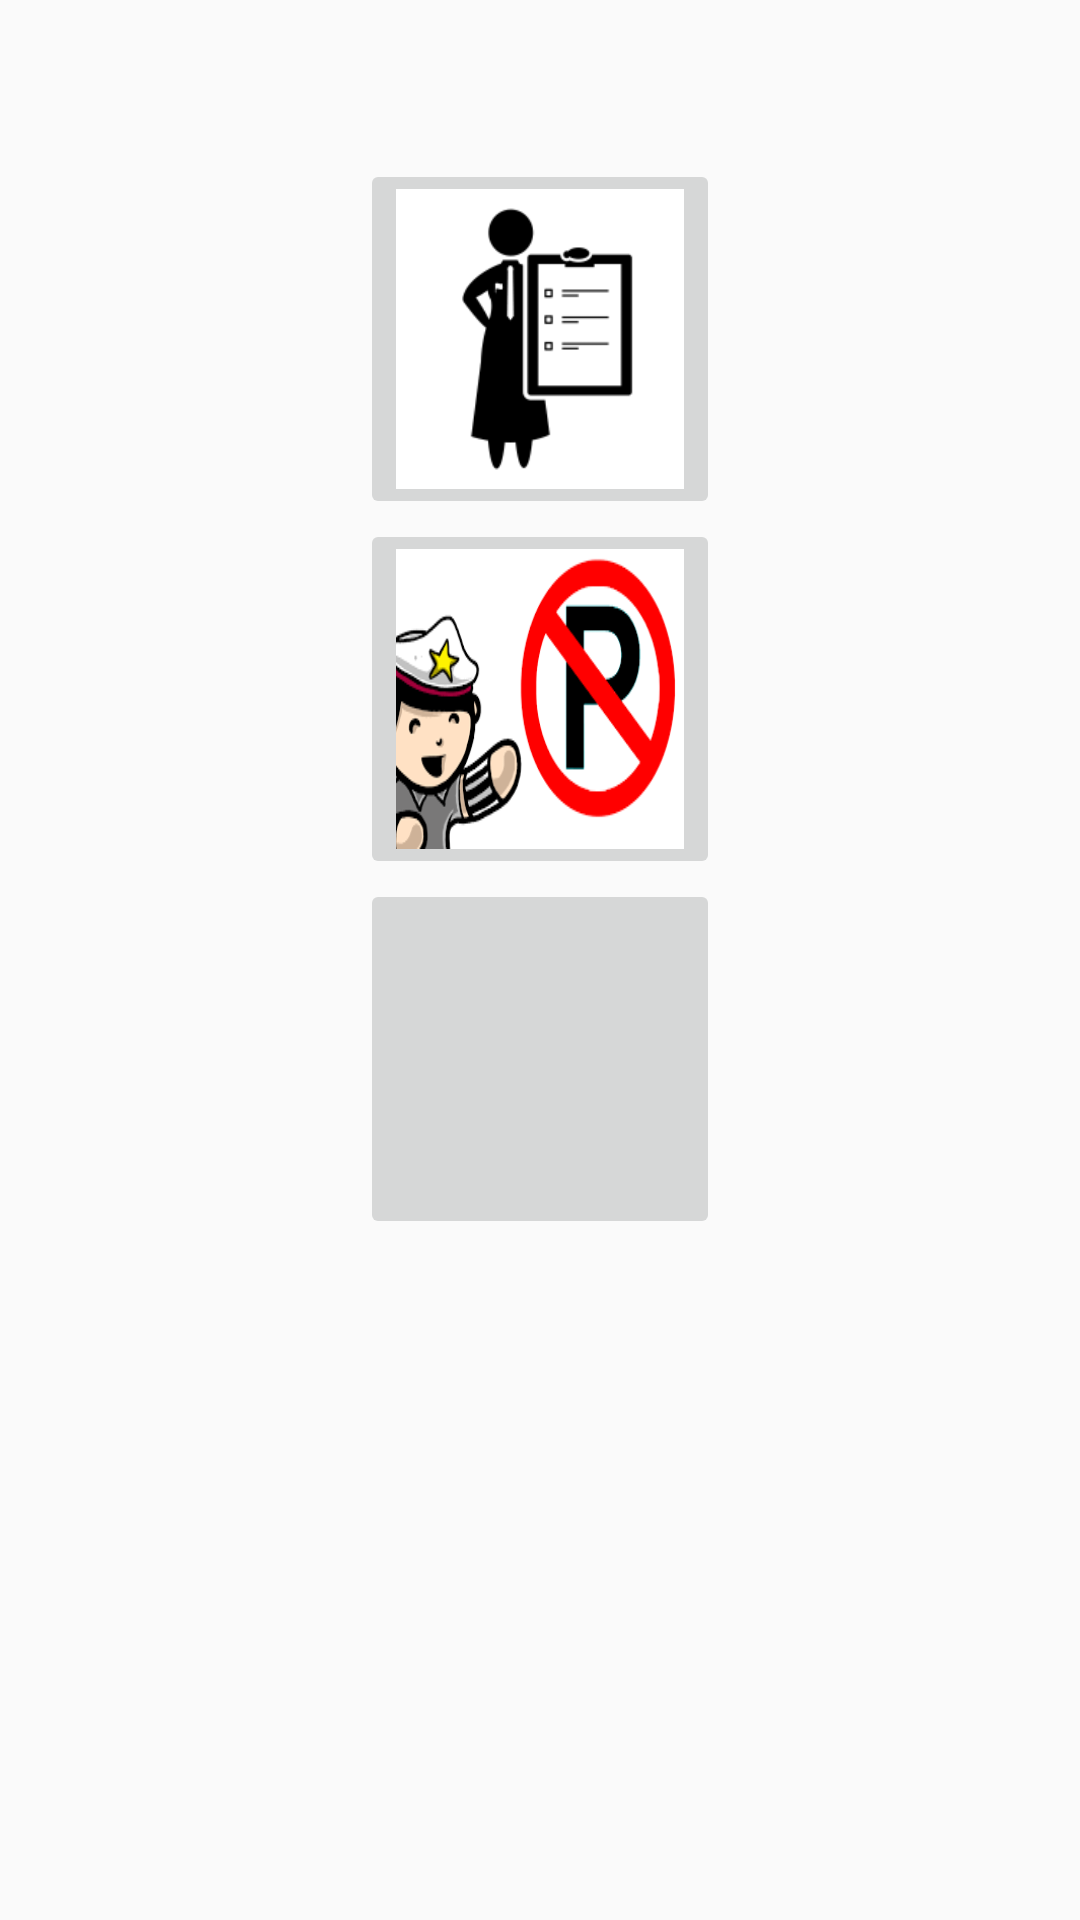

Icons on this 1080 × 1920 Android screen, each with its box as (x1, y1, x2, y2):
regulation: (372, 177, 708, 501)
